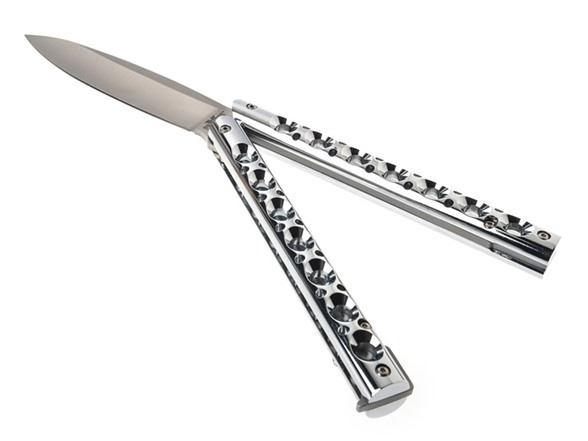knife: (22, 28, 563, 421)
